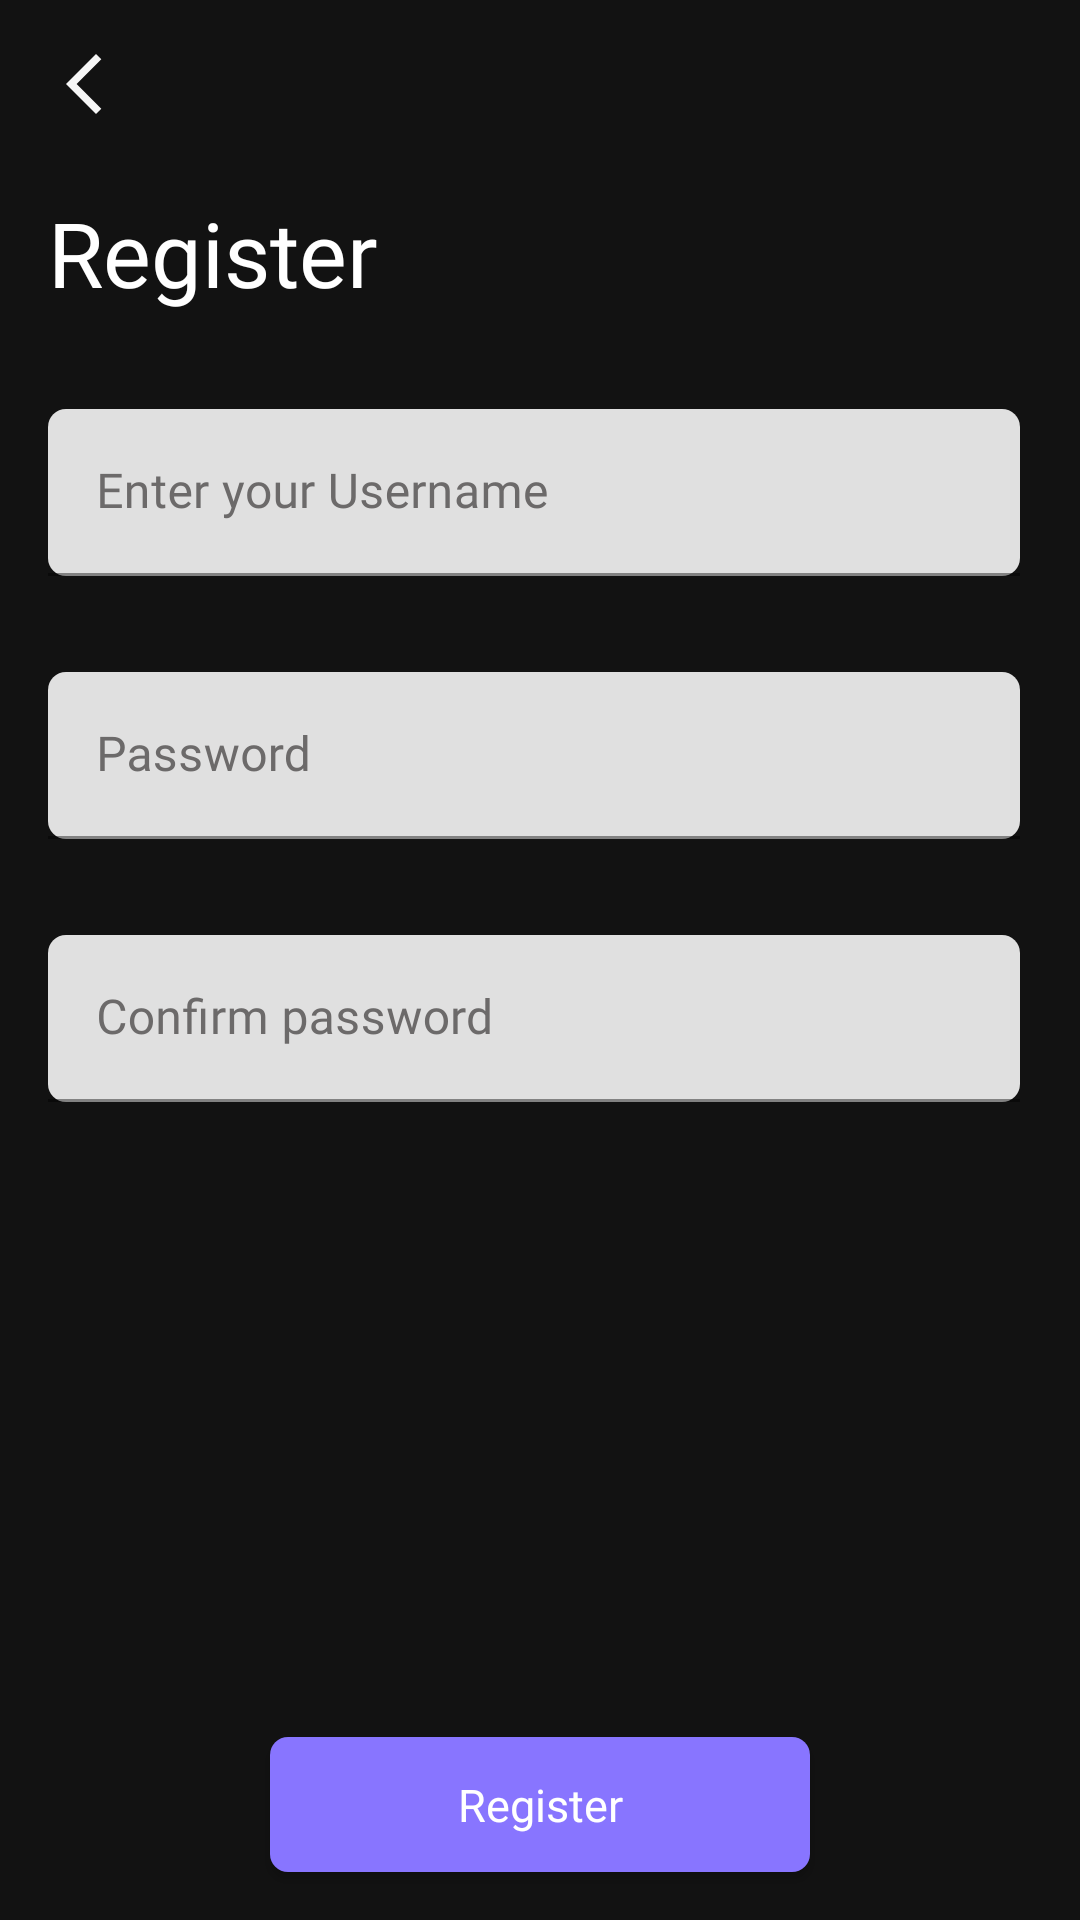

Where to tap for icons on this 1080×1920 app screen, as point (x, y):
back: point (83, 84)
